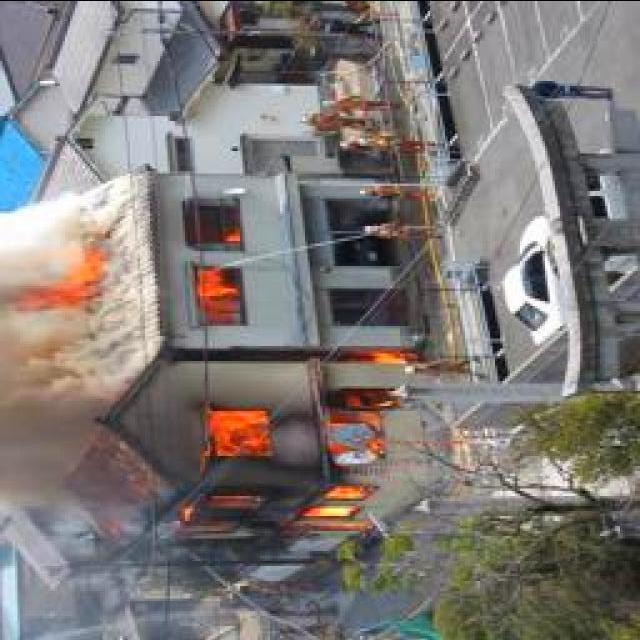Fire: (158, 341, 425, 555), (18, 224, 110, 314), (198, 198, 247, 322)
